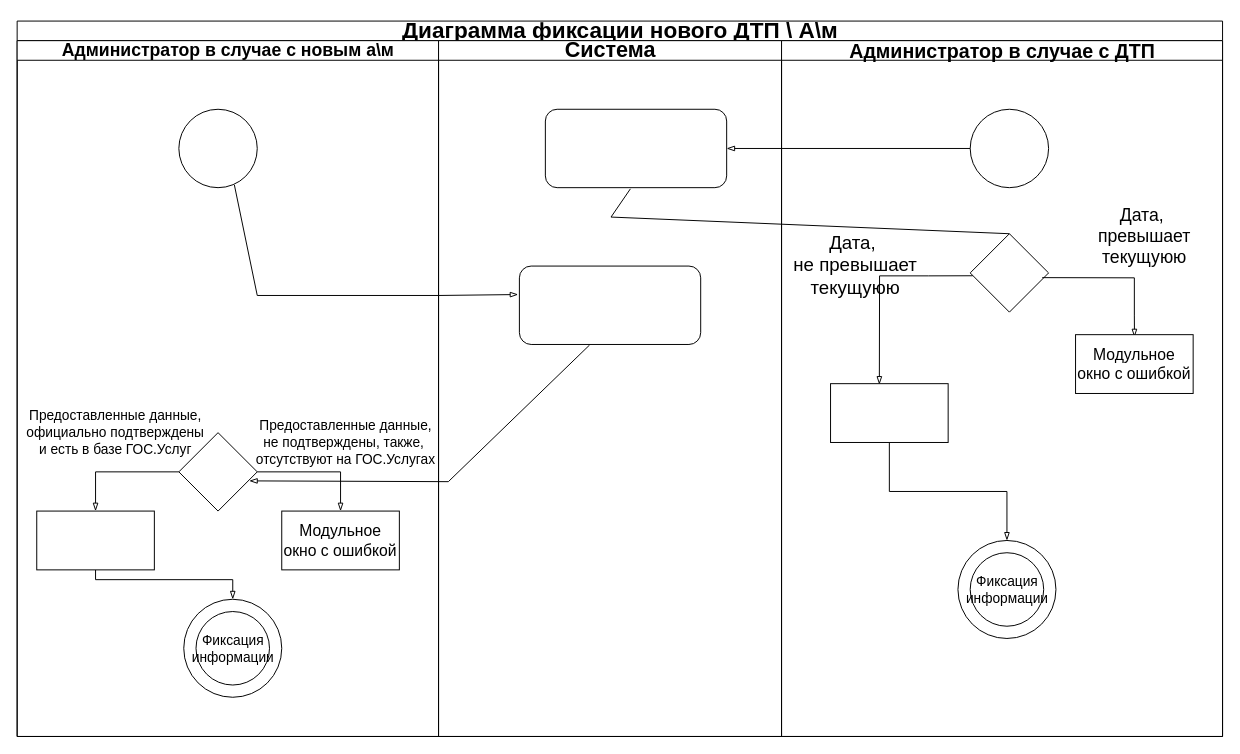
Some shapes in this 1240 by 754 pixel diagram are drawn without their labels. The centre of each missing label's shape, as x and y in pixels:
"Запрос к БД" goes at point 95,540.
"Запрос к БД на фиксацию" goes at point 889,412.
"Зафиксировать новое ДТП" goes at point 635,148.
"Зафиксировать новый А\м" goes at point 609,304.
